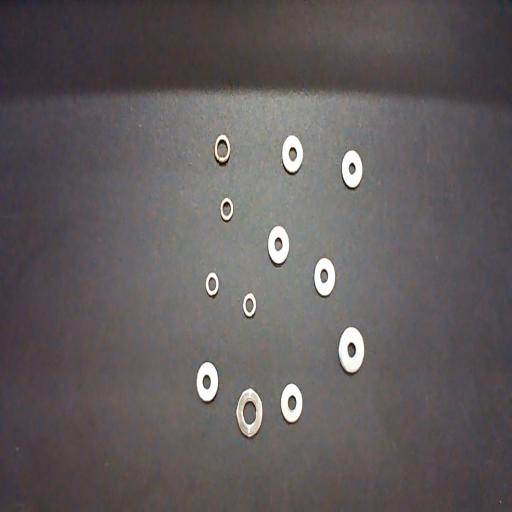washer: (236, 388, 263, 438), (338, 326, 364, 374), (196, 362, 219, 403), (280, 383, 302, 425), (282, 134, 304, 175), (341, 149, 363, 190), (268, 225, 290, 266), (314, 257, 335, 298), (214, 134, 231, 165), (205, 271, 219, 298), (242, 292, 256, 318), (220, 197, 234, 222)
